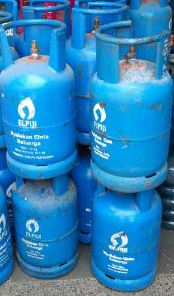blue_gas: (90, 20, 171, 190), (1, 19, 75, 179), (66, 5, 128, 140), (90, 178, 162, 291), (13, 174, 79, 277), (21, 1, 71, 55), (130, 1, 172, 62)
